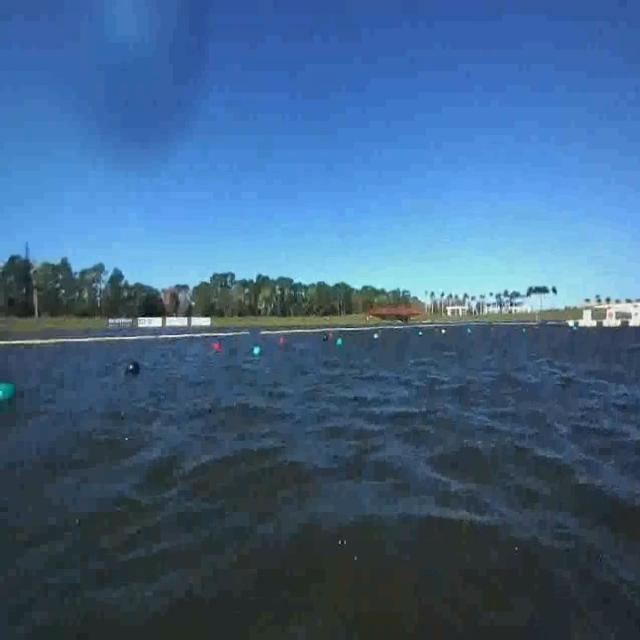black-buoy: (128, 359, 142, 377)
green-buoy: (0, 380, 17, 400), (252, 345, 262, 358), (338, 338, 345, 350)
red-buoy: (214, 343, 221, 355)
